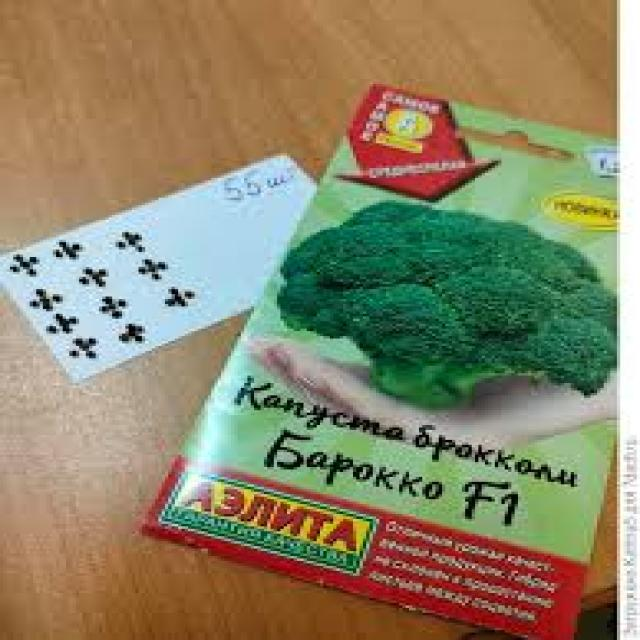broccoli: (294, 187, 624, 426)
